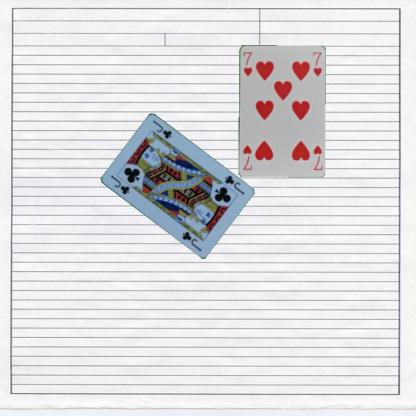7h: (241, 49, 253, 78), (311, 143, 323, 171)
Jc: (108, 173, 131, 196), (222, 173, 245, 196)
